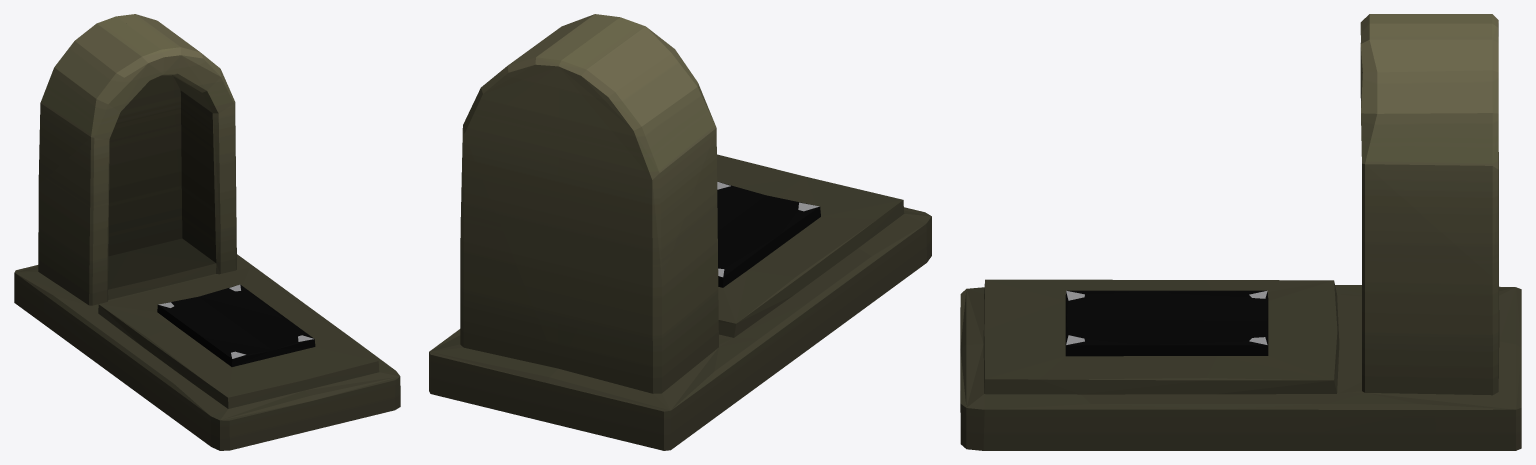
Rendered from EA_Grave_01a.fbx.
The picture shows the model from 3 angles, left to right: view 1: azimuth 30°, elevation 25°; view 2: azimuth 150°, elevation 25°; view 3: azimuth 270°, elevation 25°; orthographic projection. The views are drawn at different scales.
Parts seen in each view (by area): view 1: EA_Grave_01a_LOD0; view 2: EA_Grave_01a_LOD0; view 3: EA_Grave_01a_LOD0.
Part boxes in pixels (left/top/right/bottom): EA_Grave_01a_LOD0: left=14, top=14, right=400, bottom=450; EA_Grave_01a_LOD0: left=429, top=14, right=931, bottom=450; EA_Grave_01a_LOD0: left=960, top=14, right=1521, bottom=450.
Size of what is drawn, in the model's own units: 1.88 by 2.61 by 3.63.
